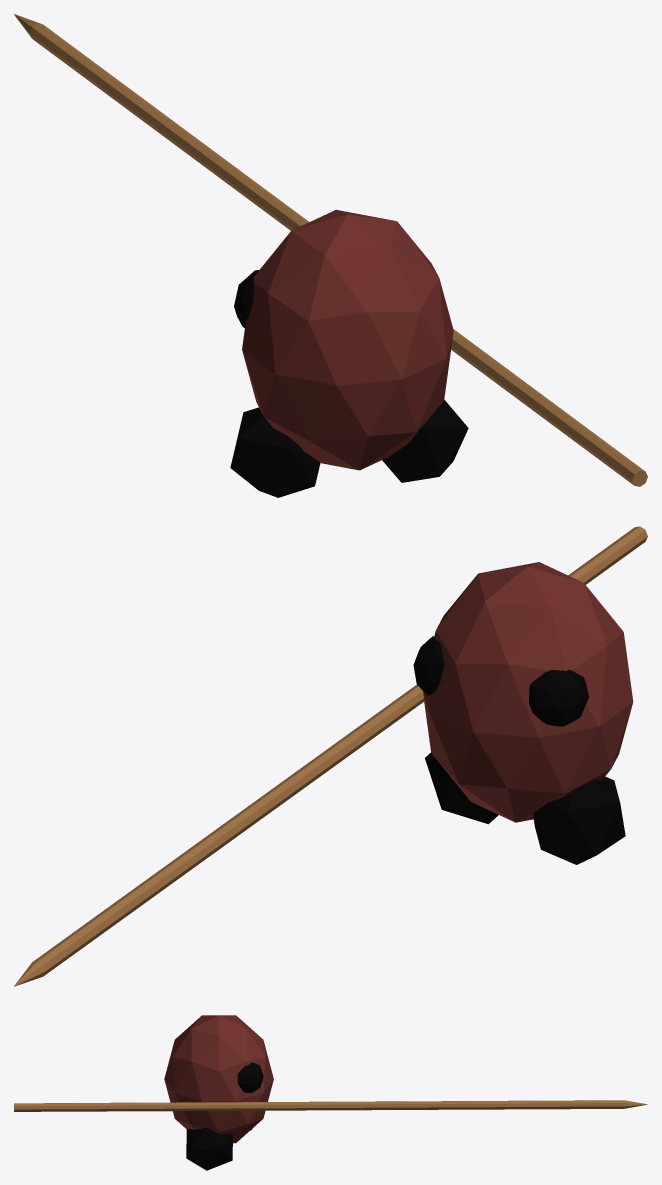
File: walk.f0011.glb
3 renders of one model, top to bottom at view 1: azimuth 30°, elevation 25°; view 2: azimuth 150°, elevation 25°; view 3: azimuth 270°, elevation 25°, orthographic. The views are drawn at different scales.
Parts seen in each view (by area): view 1: Body.001; view 2: Body.001; view 3: Body.001.
Boxes of the visible parts, bbox=[...] form: Body.001: bbox=[14, 14, 647, 497]; Body.001: bbox=[14, 526, 647, 986]; Body.001: bbox=[14, 1015, 647, 1170].
Size of the model in its own units: 2.17 by 2.82 by 11.56.
1 material, 1 textured.
